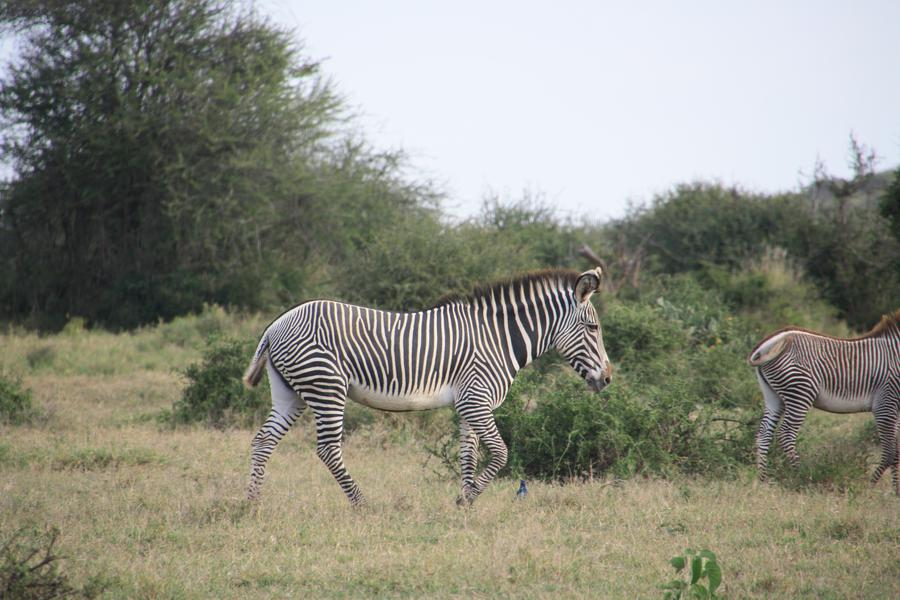zebra_grevys: (268, 302, 497, 411)
